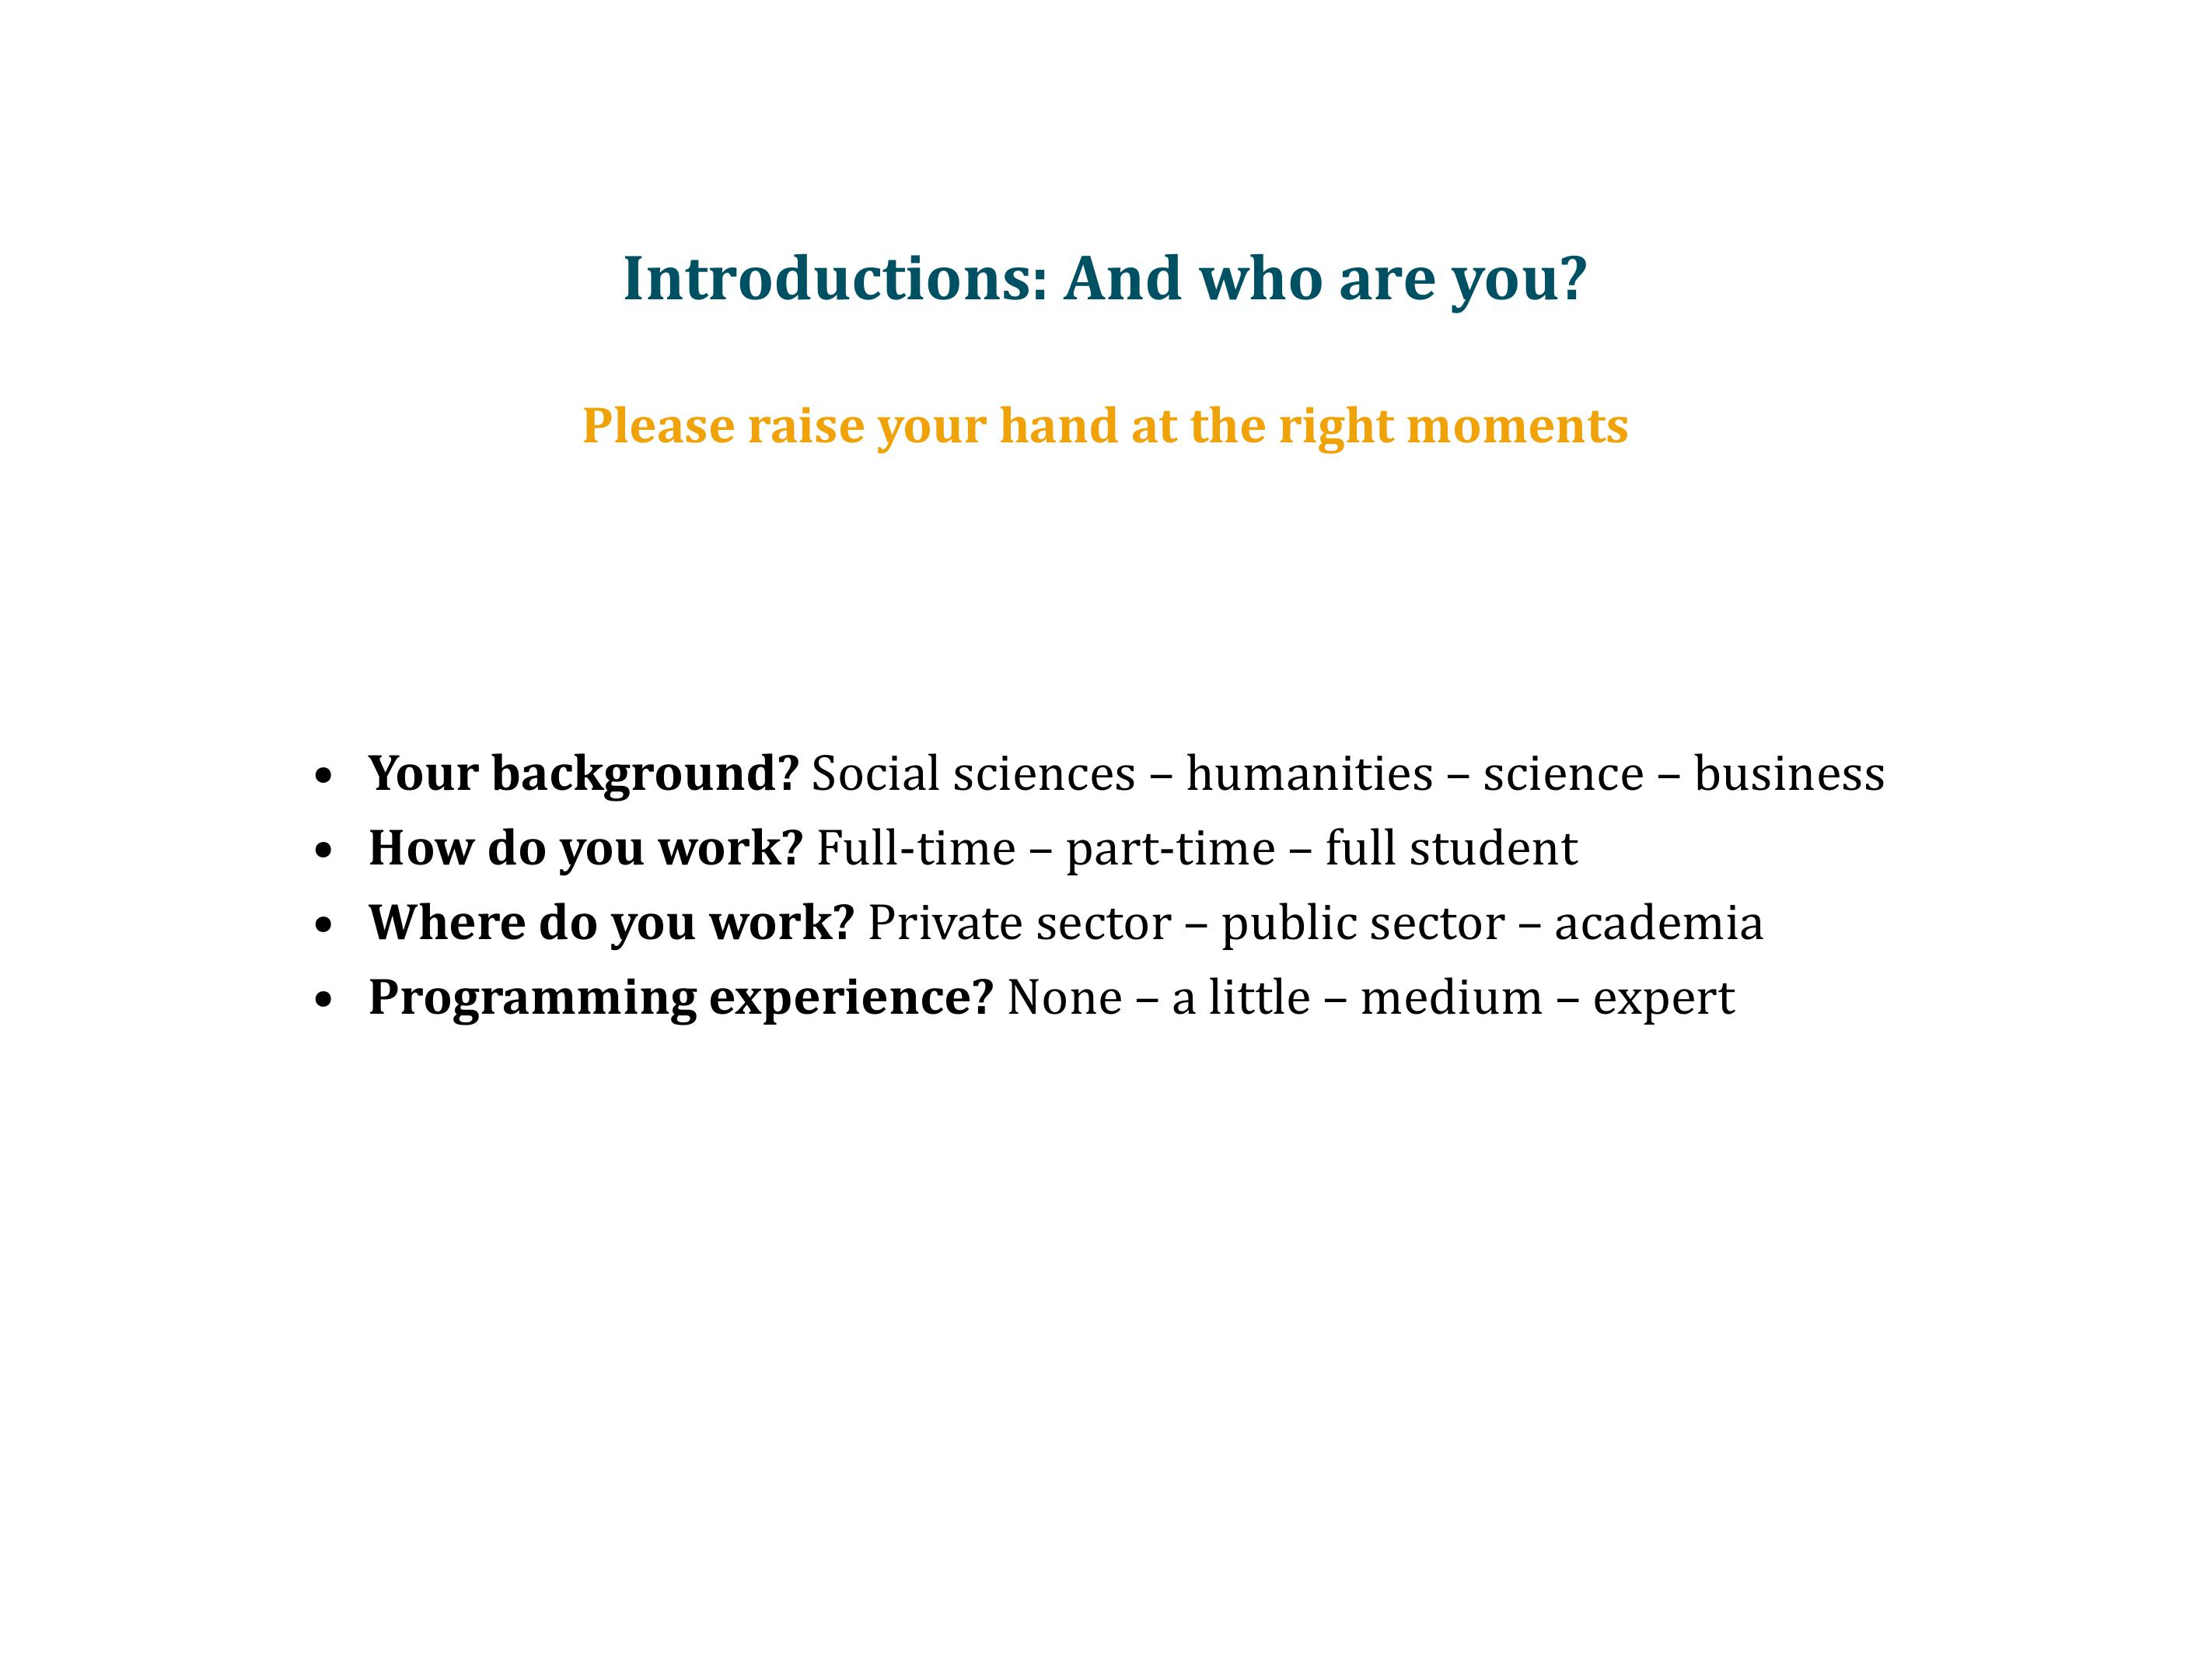Title: (608, 234, 1591, 317)
